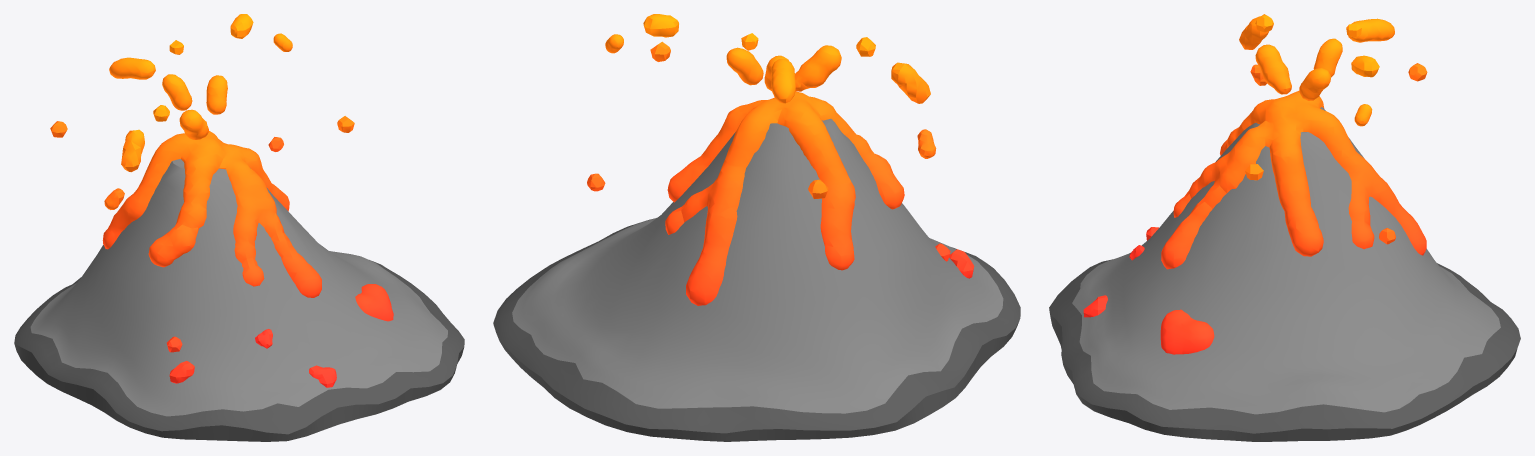
The model's file is volcano.glb.
3 renders of one model, left to right at view 1: azimuth 30°, elevation 25°; view 2: azimuth 150°, elevation 25°; view 3: azimuth 270°, elevation 25°, orthographic. The views are drawn at different scales.
Parts seen in each view (by area): view 1: Cube.458; view 2: Cube.458; view 3: Cube.458.
Part boxes in pixels (left/top/right/bottom): Cube.458: left=14, top=14, right=464, bottom=441; Cube.458: left=493, top=14, right=1020, bottom=441; Cube.458: left=1049, top=14, right=1520, bottom=441.
Bounding box in the file's own units: 2.33 × 1.79 × 2.44.
1 material, 1 textured.
